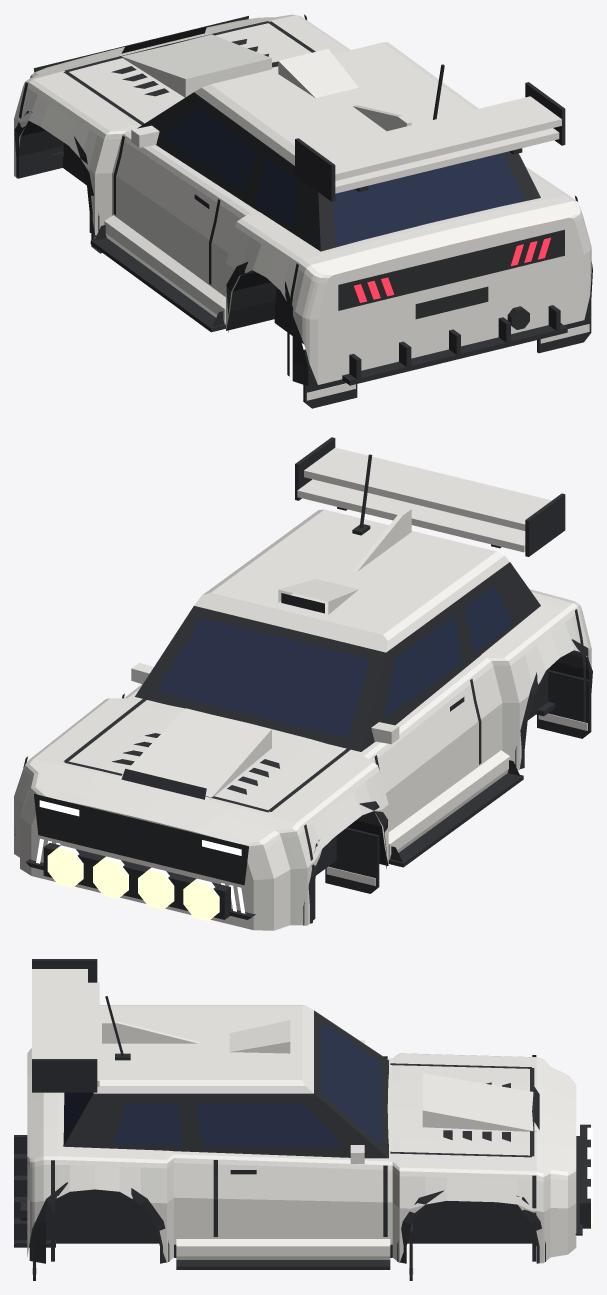
Rendered from Griffe.glb.
The picture shows the model from 3 angles, top to bottom: view 1: azimuth 30°, elevation 25°; view 2: azimuth 150°, elevation 25°; view 3: azimuth 270°, elevation 25°; orthographic projection. The views are drawn at different scales.
Visible parts, largest first — view 1: BumperRear, Roof, Opt_Wing_Rally_WingBlade, RearWindow, Door_FL, Hood, Pillars, Fender_FL, TailGarnish, Opt_Hood_Scoop_HoodScoop, Fender_RL, Underbody (+21 smaller); view 2: Roof, BumperFront, Windshield, Hood, Pillars, Opt_Wing_Rally_WingBlade, Door_FL, Grille, Opt_Hood_Scoop_HoodScoop, Fender_RL, Opt_Bumper_Lamps_RallyLamp, Opt_Mudflaps_Long_AccMudflapsLong (+19 smaller); view 3: Roof, Door_FR, Pillars, Hood, WheelWell, Fender_RR, BumperFront, Opt_Wing_Rally_WingBlade, Fender_FR, Opt_Hood_Scoop_HoodScoop, Window_FR, Windshield (+16 smaller).
Boxes of the visible parts, left/top/right/bottom form: BumperRear: left=292, top=198, right=591, bottom=384; Roof: left=194, top=42, right=478, bottom=165; Opt_Wing_Rally_WingBlade: left=314, top=96, right=561, bottom=193; RearWindow: left=333, top=153, right=525, bottom=247; Door_FL: left=114, top=132, right=227, bottom=287; Hood: left=33, top=15, right=347, bottom=132; Pillars: left=137, top=92, right=540, bottom=251; Fender_FL: left=18, top=79, right=129, bottom=235; TailGarnish: left=338, top=229, right=564, bottom=310; Opt_Hood_Scoop_HoodScoop: left=118, top=33, right=271, bottom=97; Fender_RL: left=213, top=198, right=306, bottom=329; Underbody: left=18, top=121, right=276, bottom=330; Roof: left=194, top=509, right=509, bottom=652; BumperFront: left=14, top=759, right=311, bottom=930; Windshield: left=156, top=618, right=369, bottom=738; Hood: left=34, top=696, right=372, bottom=822; Pillars: left=135, top=562, right=540, bottom=751; Opt_Wing_Rally_WingBlade: left=297, top=447, right=551, bottom=552; Door_FL: left=367, top=676, right=480, bottom=831; Grille: left=34, top=794, right=248, bottom=885; Opt_Hood_Scoop_HoodScoop: left=118, top=708, right=271, bottom=800; Fender_RL: left=465, top=606, right=580, bottom=770; Opt_Bumper_Lamps_RallyLamp: left=47, top=845, right=219, bottom=920; Opt_Mudflaps_Long_AccMudflapsLong: left=325, top=670, right=591, bottom=893; Roof: left=93, top=1005, right=313, bottom=1093; Door_FR: left=213, top=1155, right=387, bottom=1238; Pillars: left=63, top=1010, right=388, bottom=1158; Hood: left=388, top=1053, right=536, bottom=1171; WheelWell: left=31, top=1189, right=532, bottom=1243; Fender_RR: left=50, top=1154, right=213, bottom=1262; BumperFront: left=536, top=1057, right=576, bottom=1263; Opt_Wing_Rally_WingBlade: left=32, top=969, right=99, bottom=1086; Fender_FR: left=388, top=1161, right=536, bottom=1262; Opt_Hood_Scoop_HoodScoop: left=422, top=1073, right=538, bottom=1132; Window_FR: left=195, top=1104, right=342, bottom=1145; Windshield: left=321, top=1021, right=381, bottom=1144.
Size of the model in its own units: 6.9 by 5.72 by 12.45.
